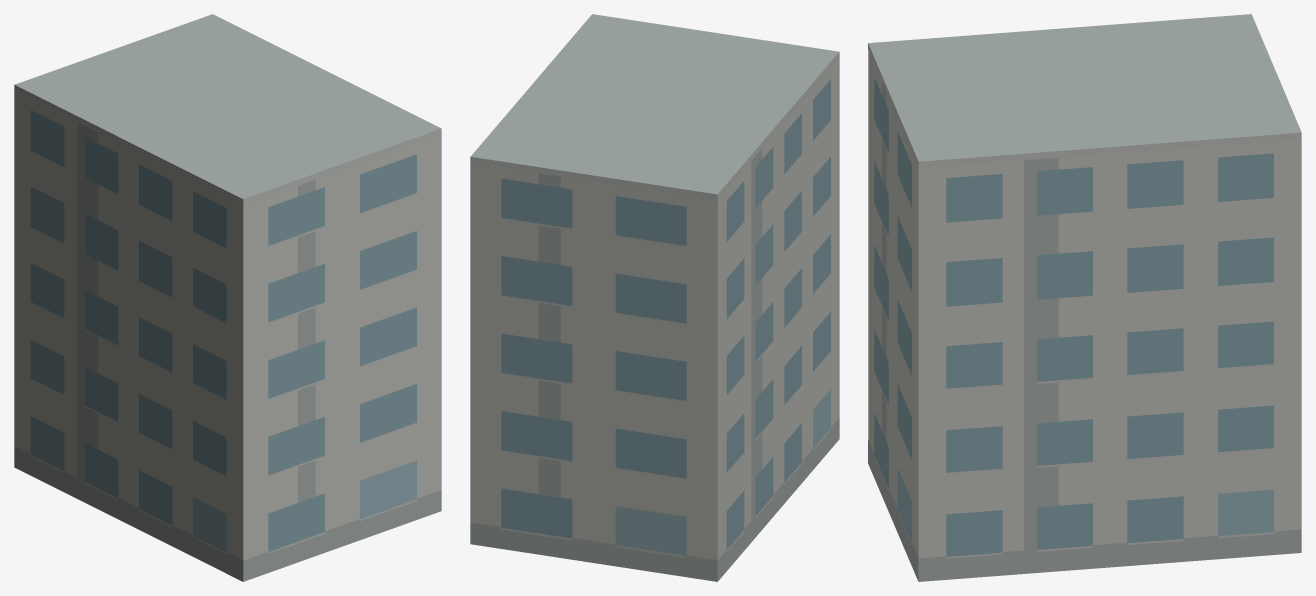
File: residential-59a69826-d107-457a-983d-02d1aa66d5c2.glb
The picture shows the model from 3 angles, left to right: view 1: azimuth 30°, elevation 25°; view 2: azimuth 150°, elevation 25°; view 3: azimuth 270°, elevation 25°; orthographic projection. The views are drawn at different scales.
Parts seen in each view (by area): view 1: residential-59a69826-d107-457a-983d-02d1aa66d5c2.tmp; view 2: residential-59a69826-d107-457a-983d-02d1aa66d5c2.tmp; view 3: residential-59a69826-d107-457a-983d-02d1aa66d5c2.tmp.
Part boxes in pixels (box(x1,y1,x2,y2)): residential-59a69826-d107-457a-983d-02d1aa66d5c2.tmp: box(14, 14, 441, 581); residential-59a69826-d107-457a-983d-02d1aa66d5c2.tmp: box(470, 14, 839, 581); residential-59a69826-d107-457a-983d-02d1aa66d5c2.tmp: box(868, 14, 1301, 581).
Bounding box in the file's own units: 11.5 × 15.25 × 14.27.
